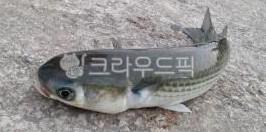fish: (32, 8, 231, 116)
